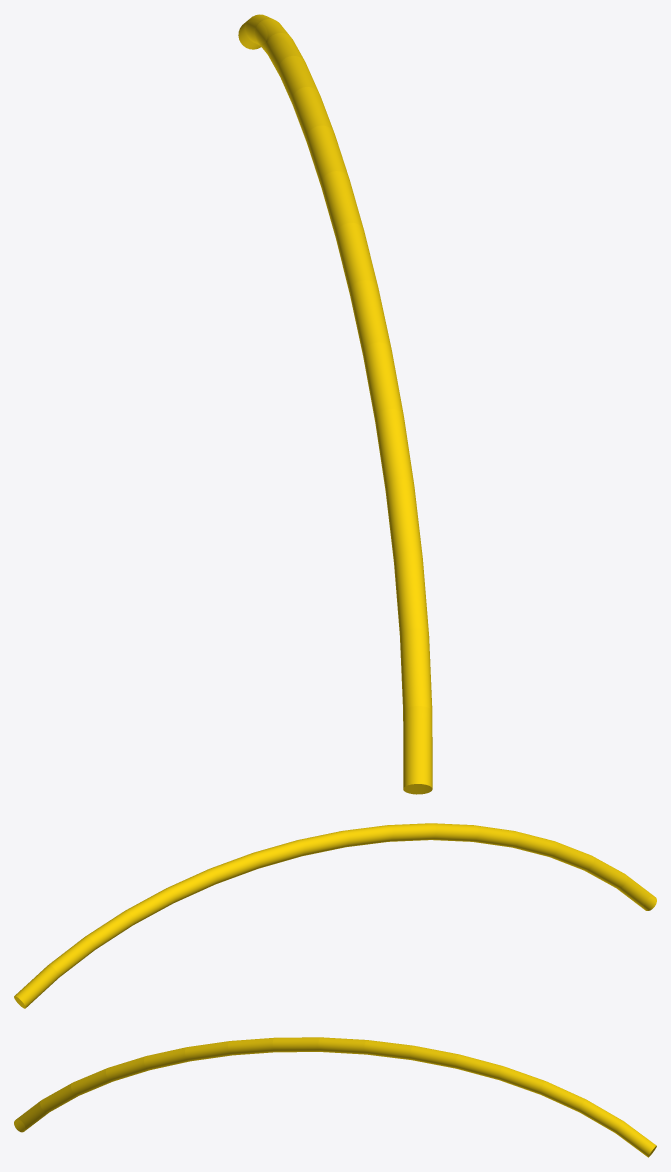
The model's file is Event_421364160_track_40.fbx.
The picture shows the model from 3 angles, top to bottom: view 1: azimuth 30°, elevation 25°; view 2: azimuth 150°, elevation 25°; view 3: azimuth 270°, elevation 25°; orthographic projection. The views are drawn at different scales.
Visible parts, largest first — view 1: Model; view 2: Model; view 3: Model.
Part boxes in pixels (x1=…): Model: x1=238, y1=14, x2=432, y2=794; Model: x1=14, y1=823, x2=656, y2=1008; Model: x1=14, y1=1037, x2=656, y2=1157.
Bounding box in the file's own units: 0.7717 × 0.47 × 1.75.
